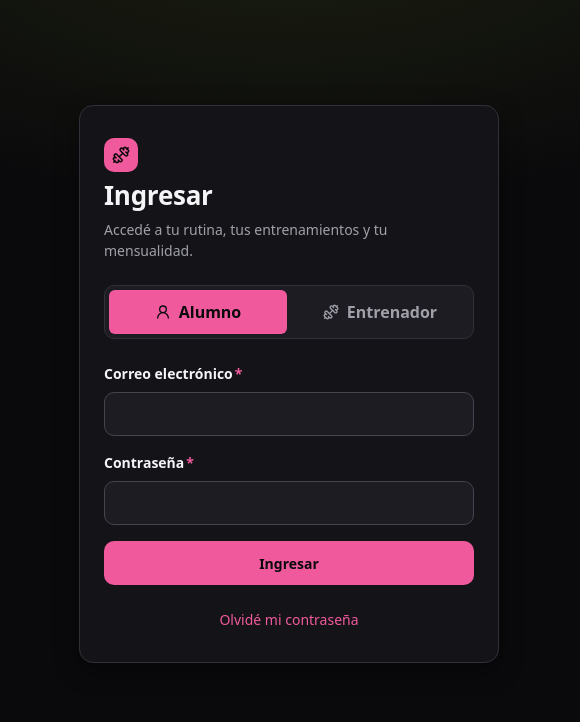
Scenario: Login › informa cuentas pendientes y bloqueadas con mensajes claros
Step 1. Type "a@b.com" into the field labelled "Correo electrónico*" → (289, 414), box x1=104 y1=392 x2=474 y2=436
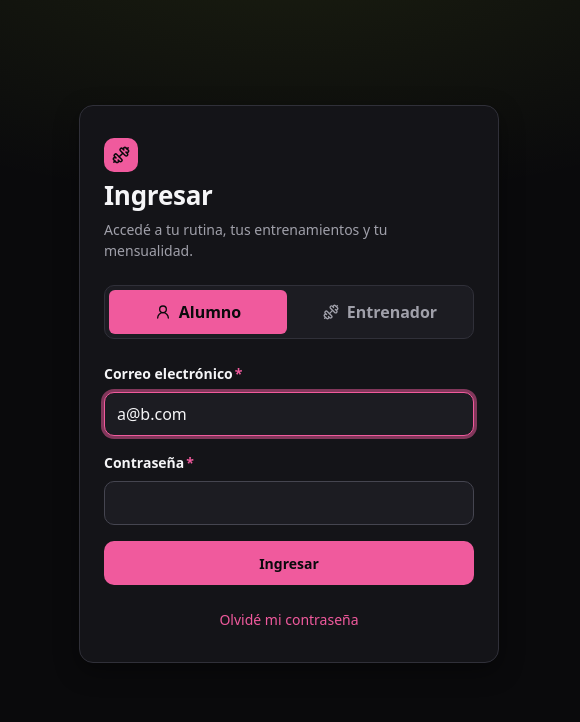
Step 2. Type "x" into the password field labelled "Contraseña*" → (289, 503), box x1=104 y1=481 x2=474 y2=525
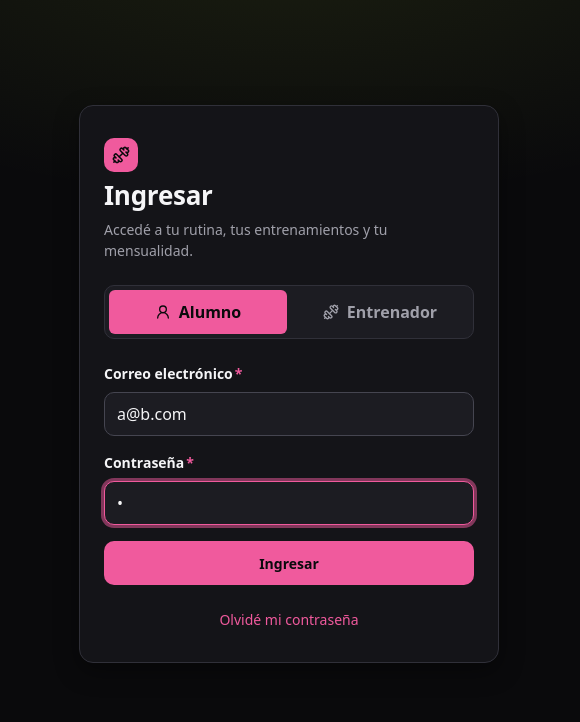
Step 3. Click the button "Ingresar" → (289, 563), box x1=104 y1=541 x2=474 y2=585
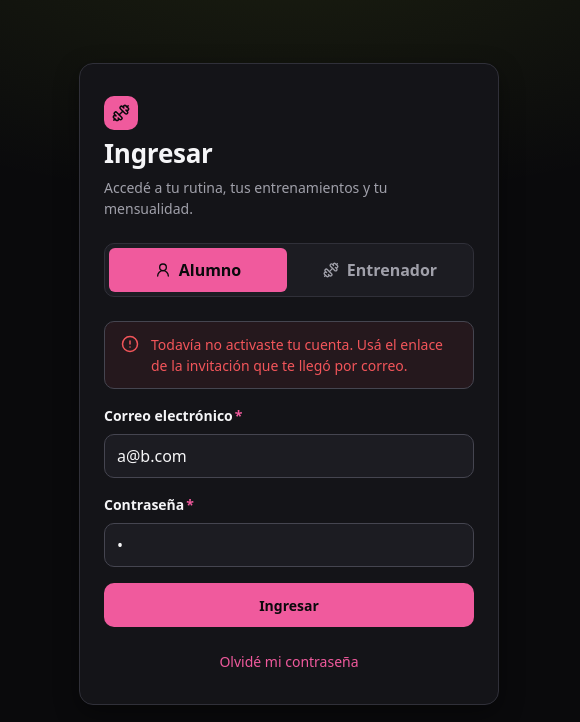
Expected: the text "Todavía no activaste tu cuenta" is shown, x1=151 y1=335 x2=443 y2=375
